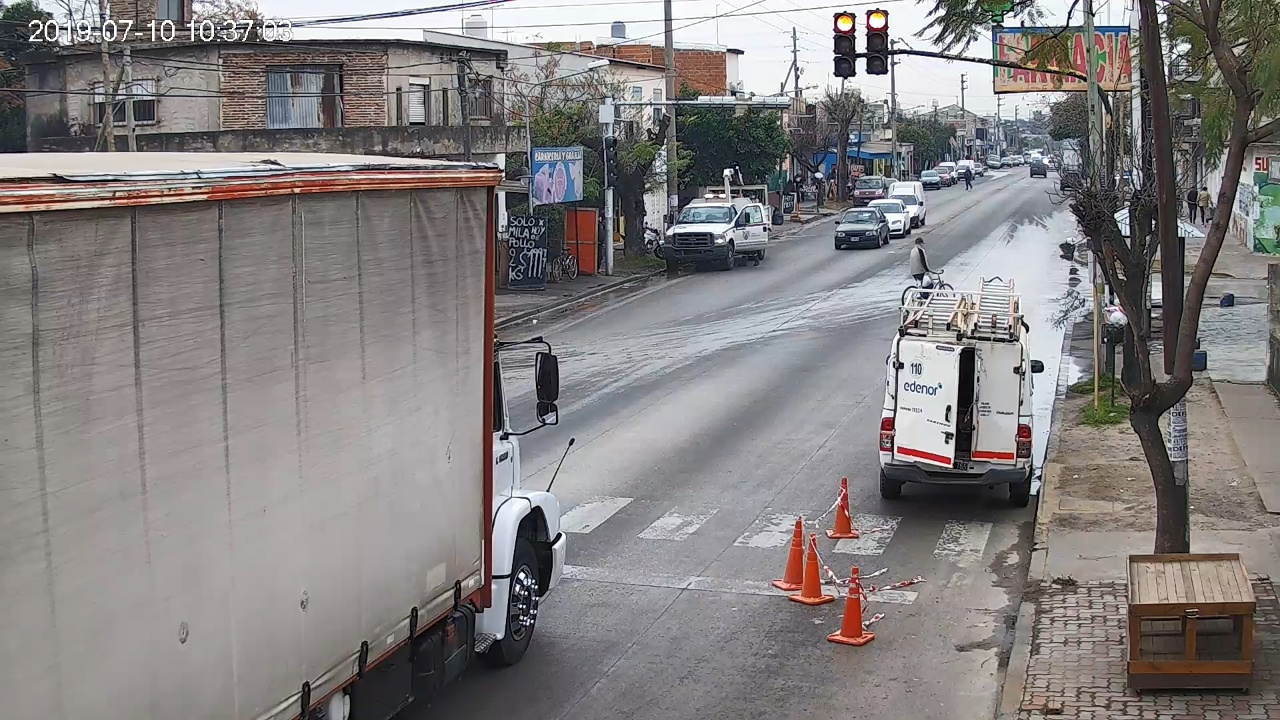car: (880, 297, 1044, 504)
traffic light: (834, 13, 854, 76), (867, 10, 886, 74)
truck: (1, 154, 577, 720)
